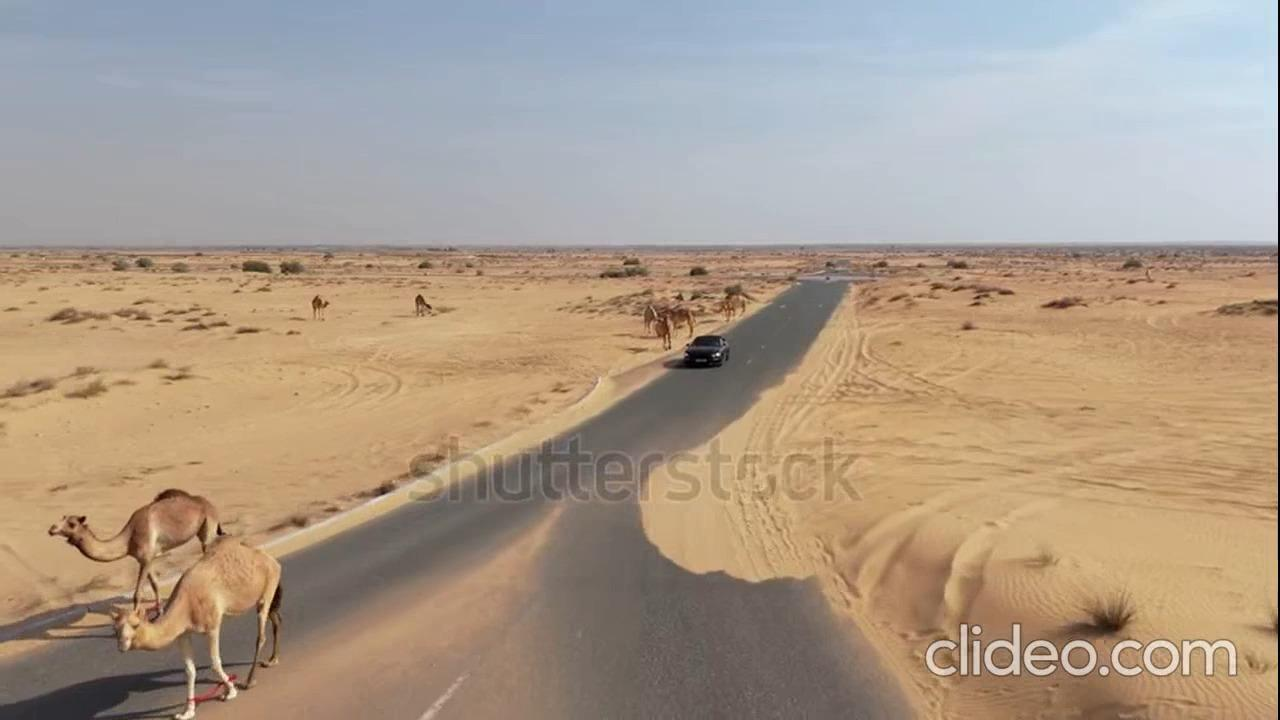camel: (70, 531, 292, 699), (37, 481, 229, 602)
